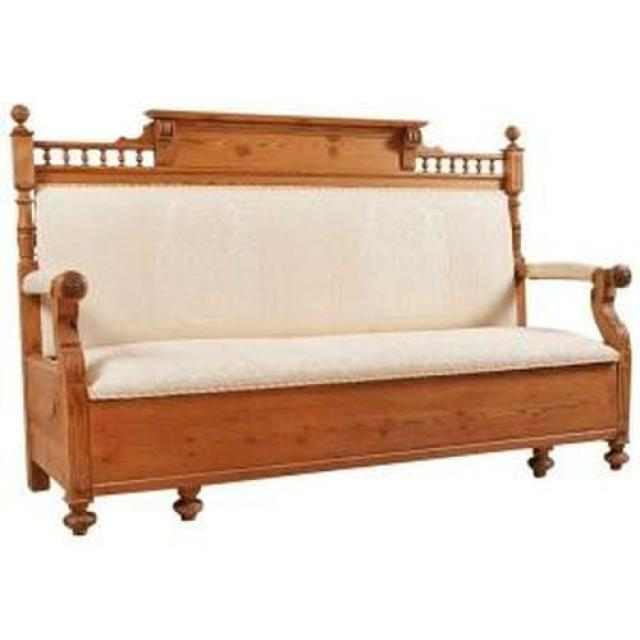sofa: (12, 111, 630, 536)
